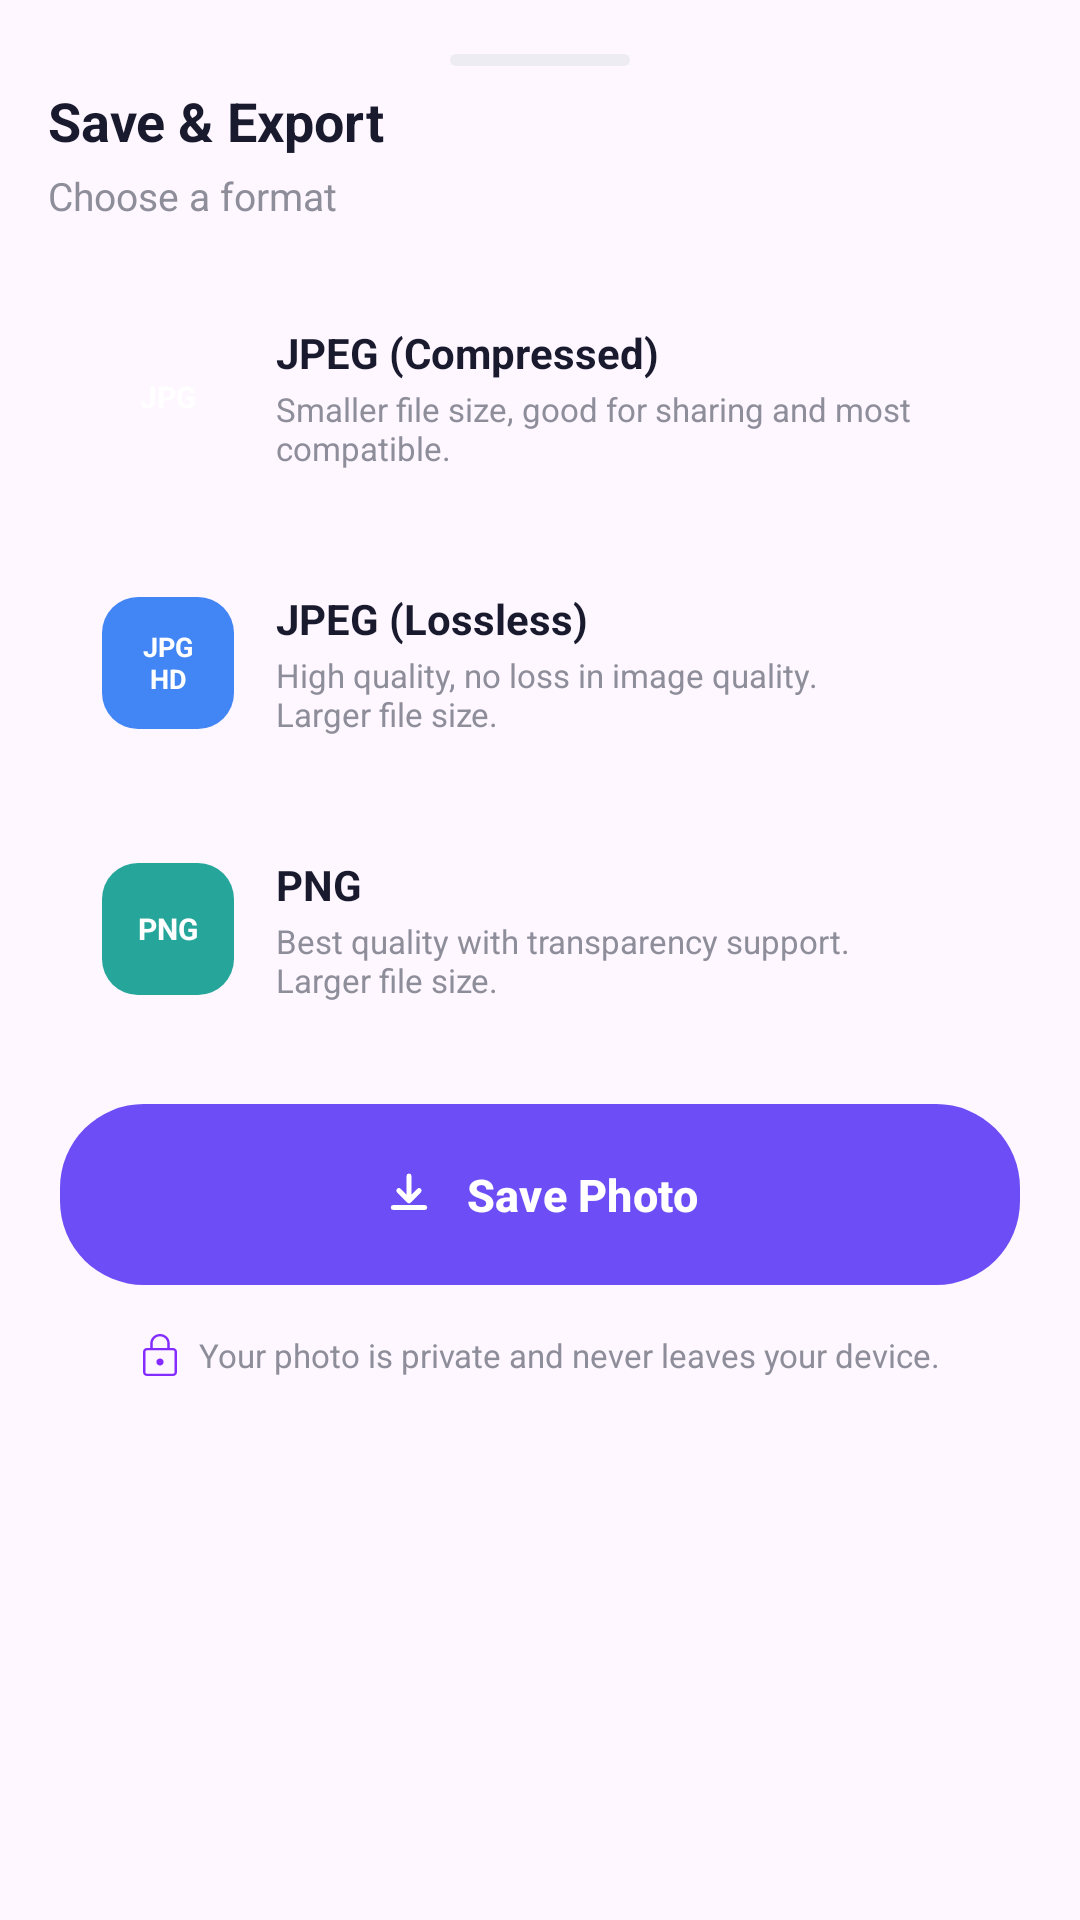

Icons on this 1080 × 1920 Android screen, each with the point to tap as (x=x, y=y):
lock: (x=160, y=1355)
